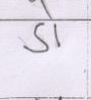ai_matra: (27, 0, 59, 18)
